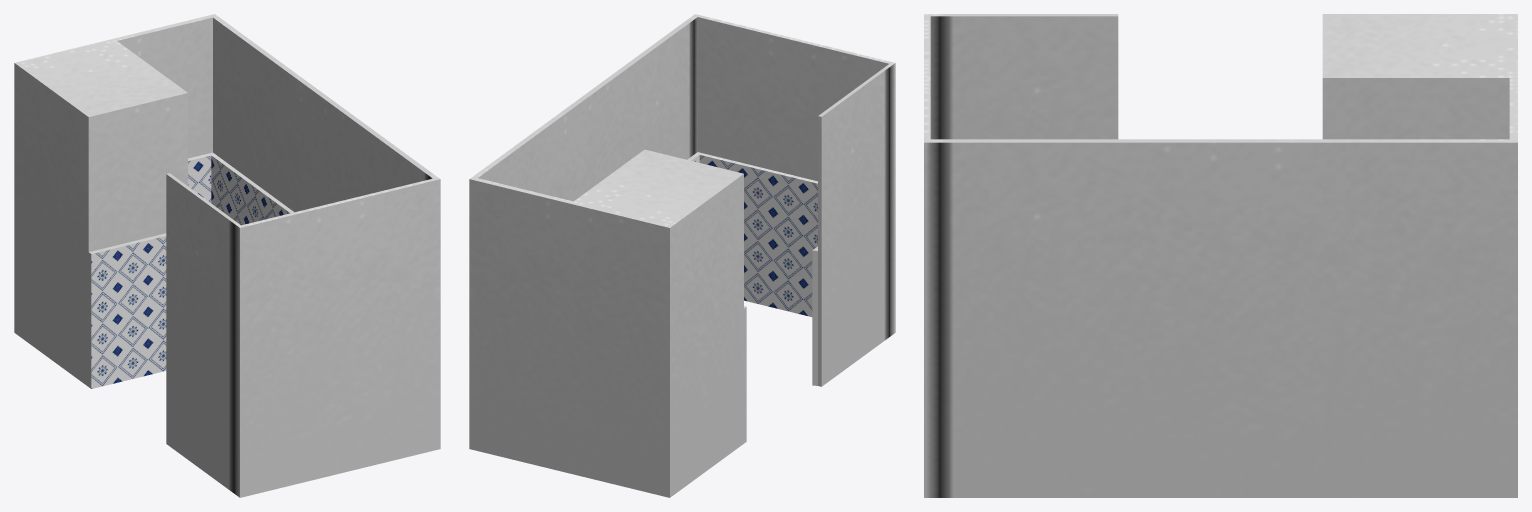
File: Bathroom_TiledWalls.fbx
The picture shows the model from 3 angles, left to right: view 1: azimuth 30°, elevation 25°; view 2: azimuth 150°, elevation 25°; view 3: azimuth 270°, elevation 25°; orthographic projection. The views are drawn at different scales.
Visible parts, largest first — view 1: Cube.008; view 2: Cube.008; view 3: Cube.008.
Boxes of the visible parts, x1,y1,x2,y2 form: Cube.008: (14,14,440,497); Cube.008: (469,14,895,497); Cube.008: (924,14,1517,497).
Bounding box in the file's own units: 200 × 257 × 390.
